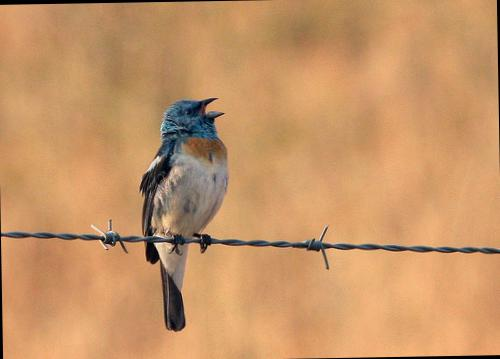bird: (130, 87, 238, 336)
